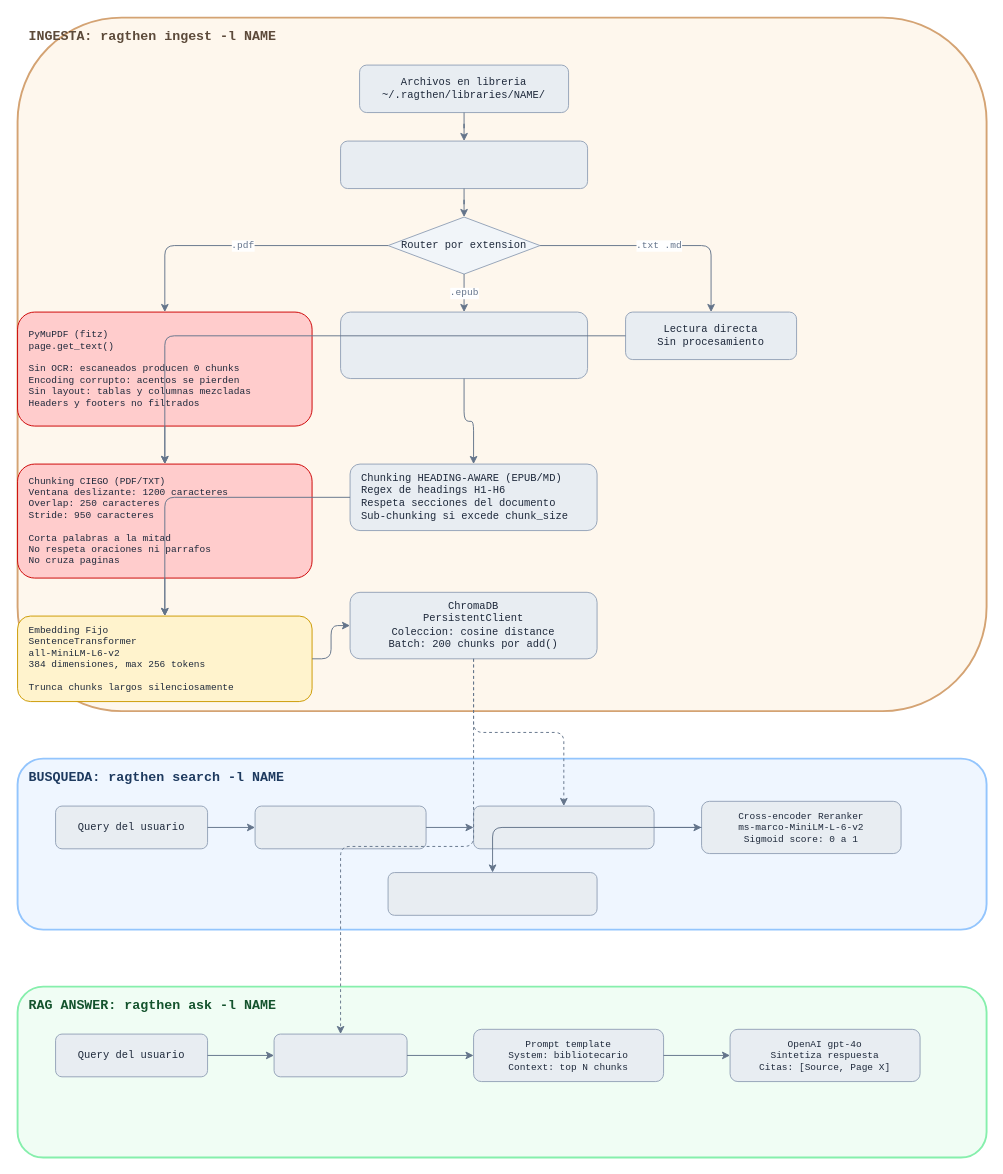
This 1003x1174 diagram has some shape labels left out. Here are the shapes that lost their labels. From the top down, the centre of each, then its label:
the point at 464,164: File Discovery glob: *.pdf, *.epub, *.txt, *.md
the point at 464,345: ebooklib + markdownify XHTML a Markdown MathML a LaTeX Deteccion de DRM
the point at 340,827: Embedding all-MiniLM-L6-v2
the point at 563,827: ChromaDB query top_k multiplicado por 3
the point at 492,893: JSON output {source, page, relevance, text}
the point at 340,1055: Search interno
